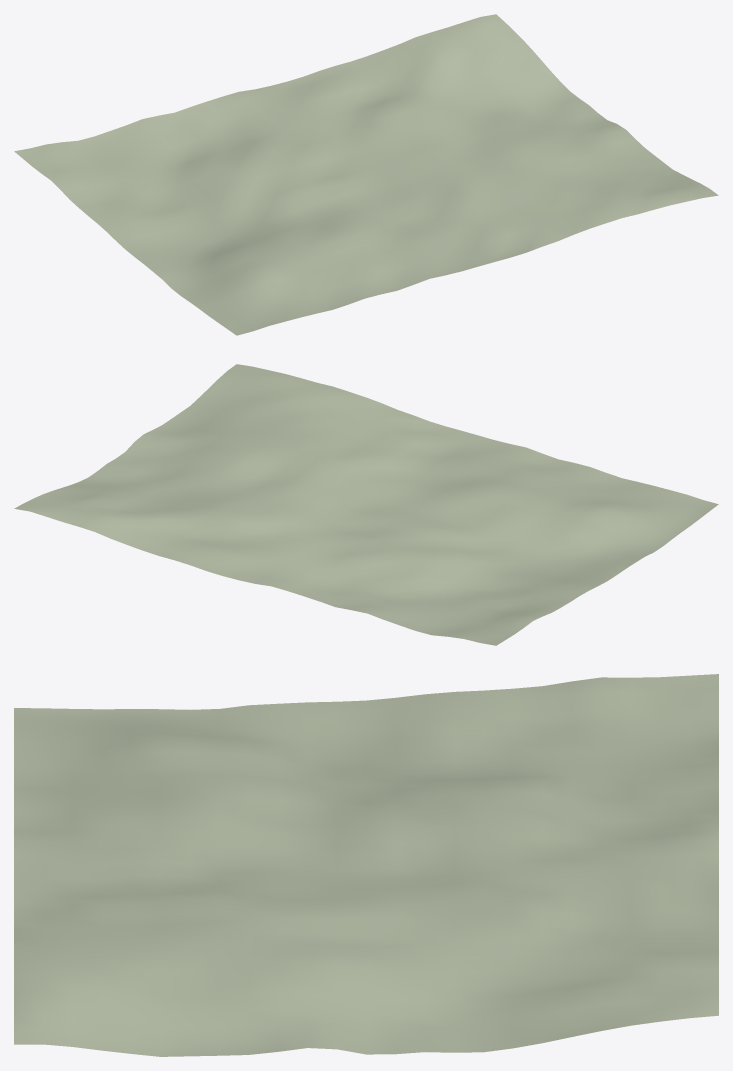
3 renders of one model, top to bottom at view 1: azimuth 30°, elevation 25°; view 2: azimuth 150°, elevation 25°; view 3: azimuth 270°, elevation 25°, orthographic. The views are drawn at different scales.
Visible parts, largest first — view 1: world-ground/30-48; view 2: world-ground/30-48; view 3: world-ground/30-48.
Part boxes in pixels (left/top/right/bottom): world-ground/30-48: left=14, top=14, right=718, bottom=335; world-ground/30-48: left=14, top=364, right=718, bottom=645; world-ground/30-48: left=14, top=674, right=718, bottom=1056.
Size of the model in its own units: 37.5 by 3.21 by 30.
